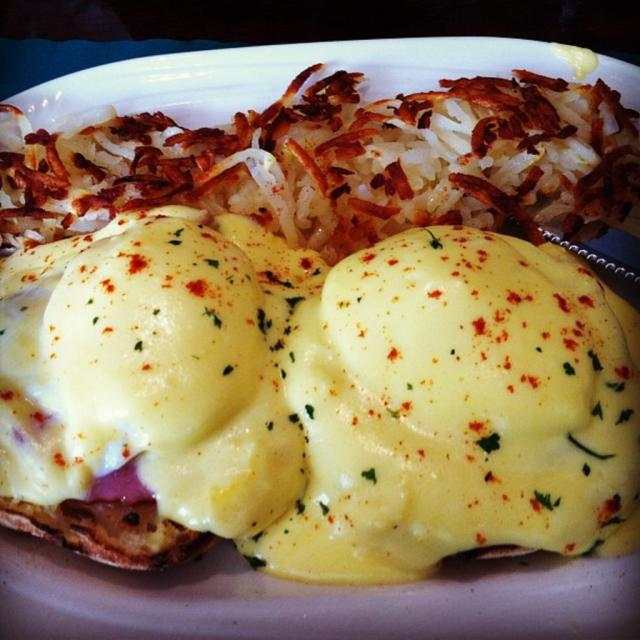Egg: (231, 220, 639, 586), (0, 198, 332, 538)
